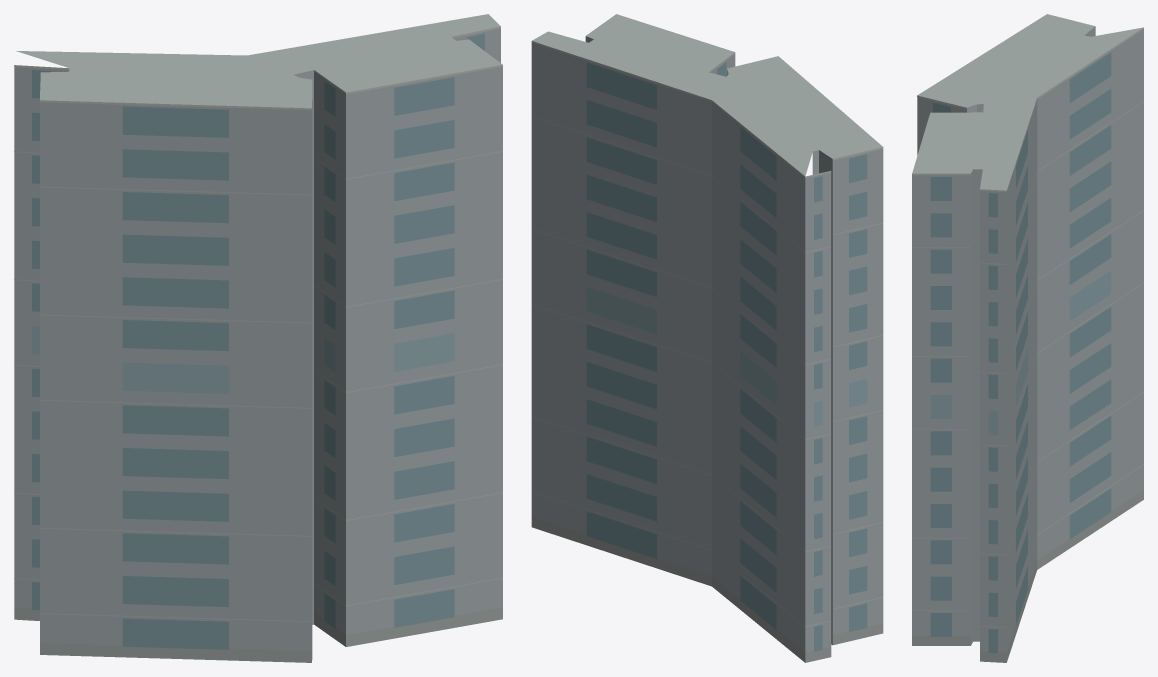
Rendered from residential-e4c8cac4-12eb-4929-9660-c581c5269e80.glb.
3 views of the same model, side by side, from view 1: azimuth 30°, elevation 25°; view 2: azimuth 150°, elevation 25°; view 3: azimuth 270°, elevation 25° (orthographic). The views are drawn at different scales.
Visible parts, largest first — view 1: residential-e4c8cac4-12eb-4929-9660-c581c5269e80.tmp; view 2: residential-e4c8cac4-12eb-4929-9660-c581c5269e80.tmp; view 3: residential-e4c8cac4-12eb-4929-9660-c581c5269e80.tmp.
Part boxes in pixels (bbox=[...]): residential-e4c8cac4-12eb-4929-9660-c581c5269e80.tmp: bbox=[14, 14, 502, 662]; residential-e4c8cac4-12eb-4929-9660-c581c5269e80.tmp: bbox=[531, 14, 883, 662]; residential-e4c8cac4-12eb-4929-9660-c581c5269e80.tmp: bbox=[912, 14, 1143, 662].
Size of the model in its own units: 55.35 by 69 by 30.71.
